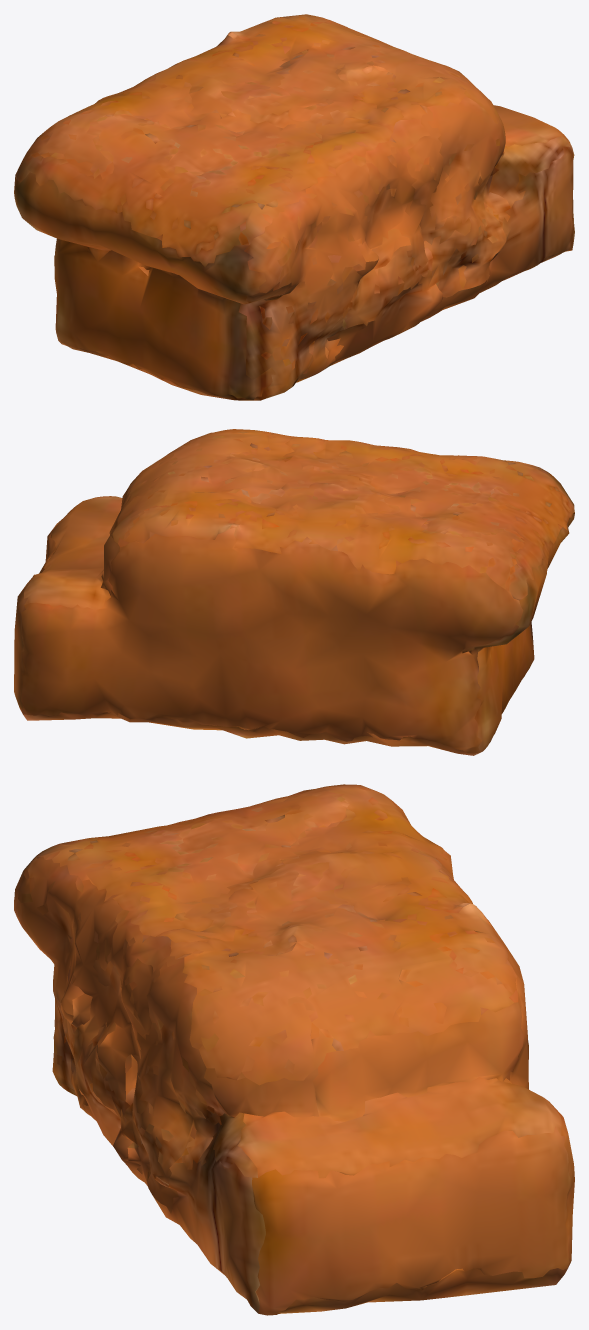
File: 8_sofa.glb
3 renders of one model, top to bottom at view 1: azimuth 30°, elevation 25°; view 2: azimuth 150°, elevation 25°; view 3: azimuth 270°, elevation 25°, orthographic. The views are drawn at different scales.
Visible parts, largest first — view 1: 8_sofa; view 2: 8_sofa; view 3: 8_sofa.
Part boxes in pixels (x1,y1,x2,y2): 8_sofa: (14, 14, 574, 400); 8_sofa: (14, 429, 574, 755); 8_sofa: (14, 784, 574, 1315).
Size of the model in its own units: 2.51 by 1.11 by 1.93.
1 material, 1 textured.
